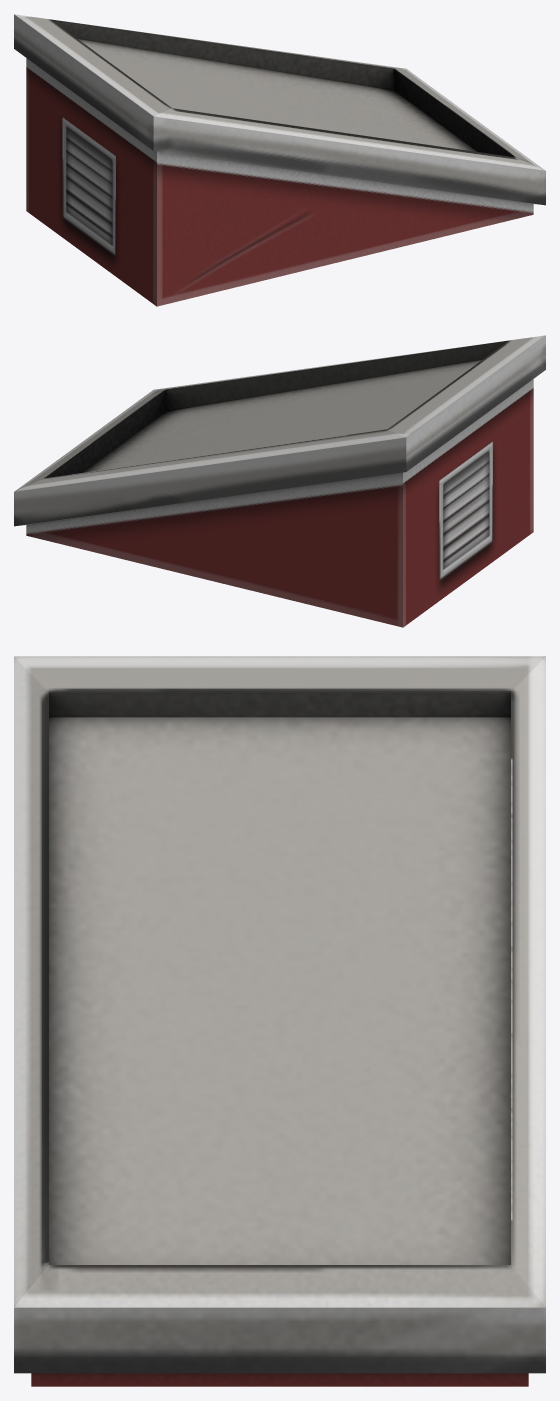
The model's file is House_RoofHelling.FBX.
3 renders of one model, top to bottom at view 1: azimuth 30°, elevation 25°; view 2: azimuth 150°, elevation 25°; view 3: azimuth 270°, elevation 25°, orthographic. The views are drawn at different scales.
Visible parts, largest first — view 1: Roof; view 2: Roof; view 3: Roof.
Part boxes in pixels (x1,y1,x2,y2): Roof: (14,14,545,306); Roof: (14,335,545,627); Roof: (14,656,545,1386).
Size of the model in its own units: 521 by 248 by 321.
